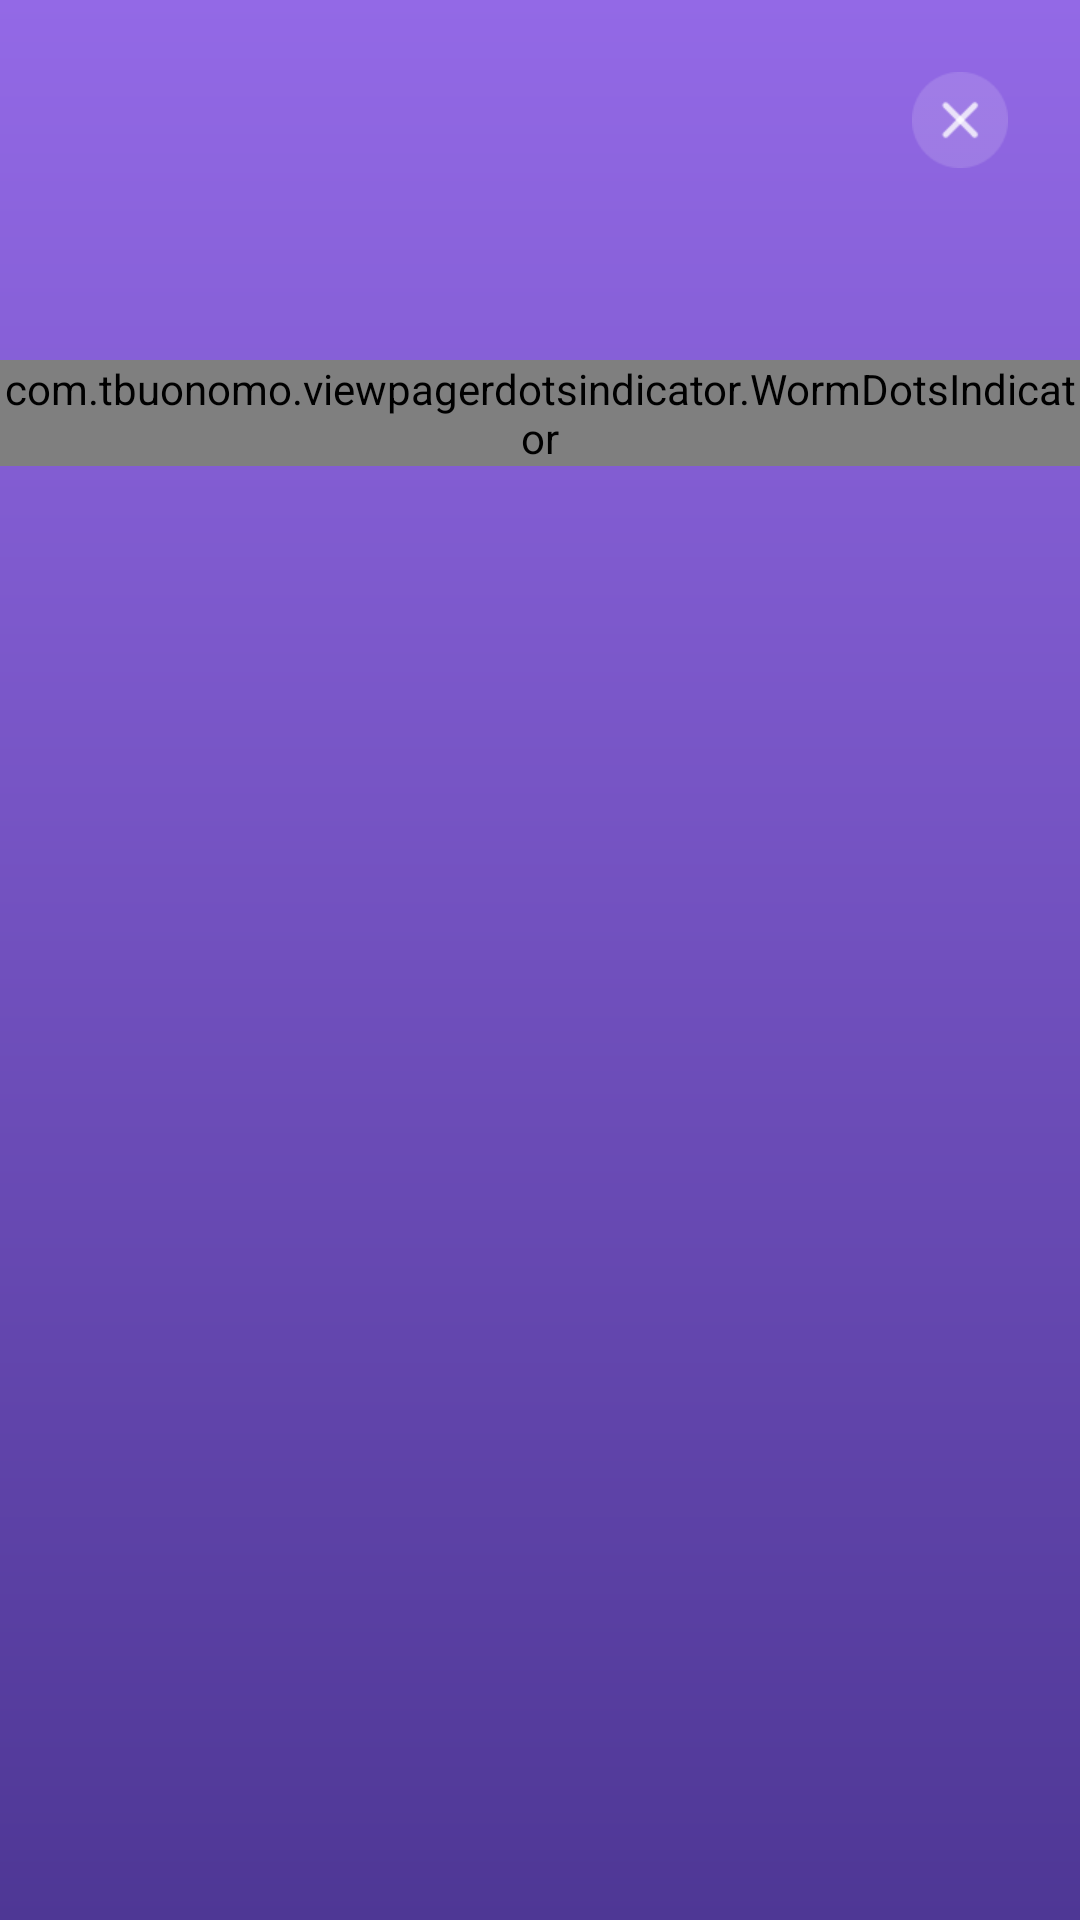

Where icons sit on this 1080*1920 app screen, as (x1, y1, x2, y2):
close: (941, 101, 979, 139)
